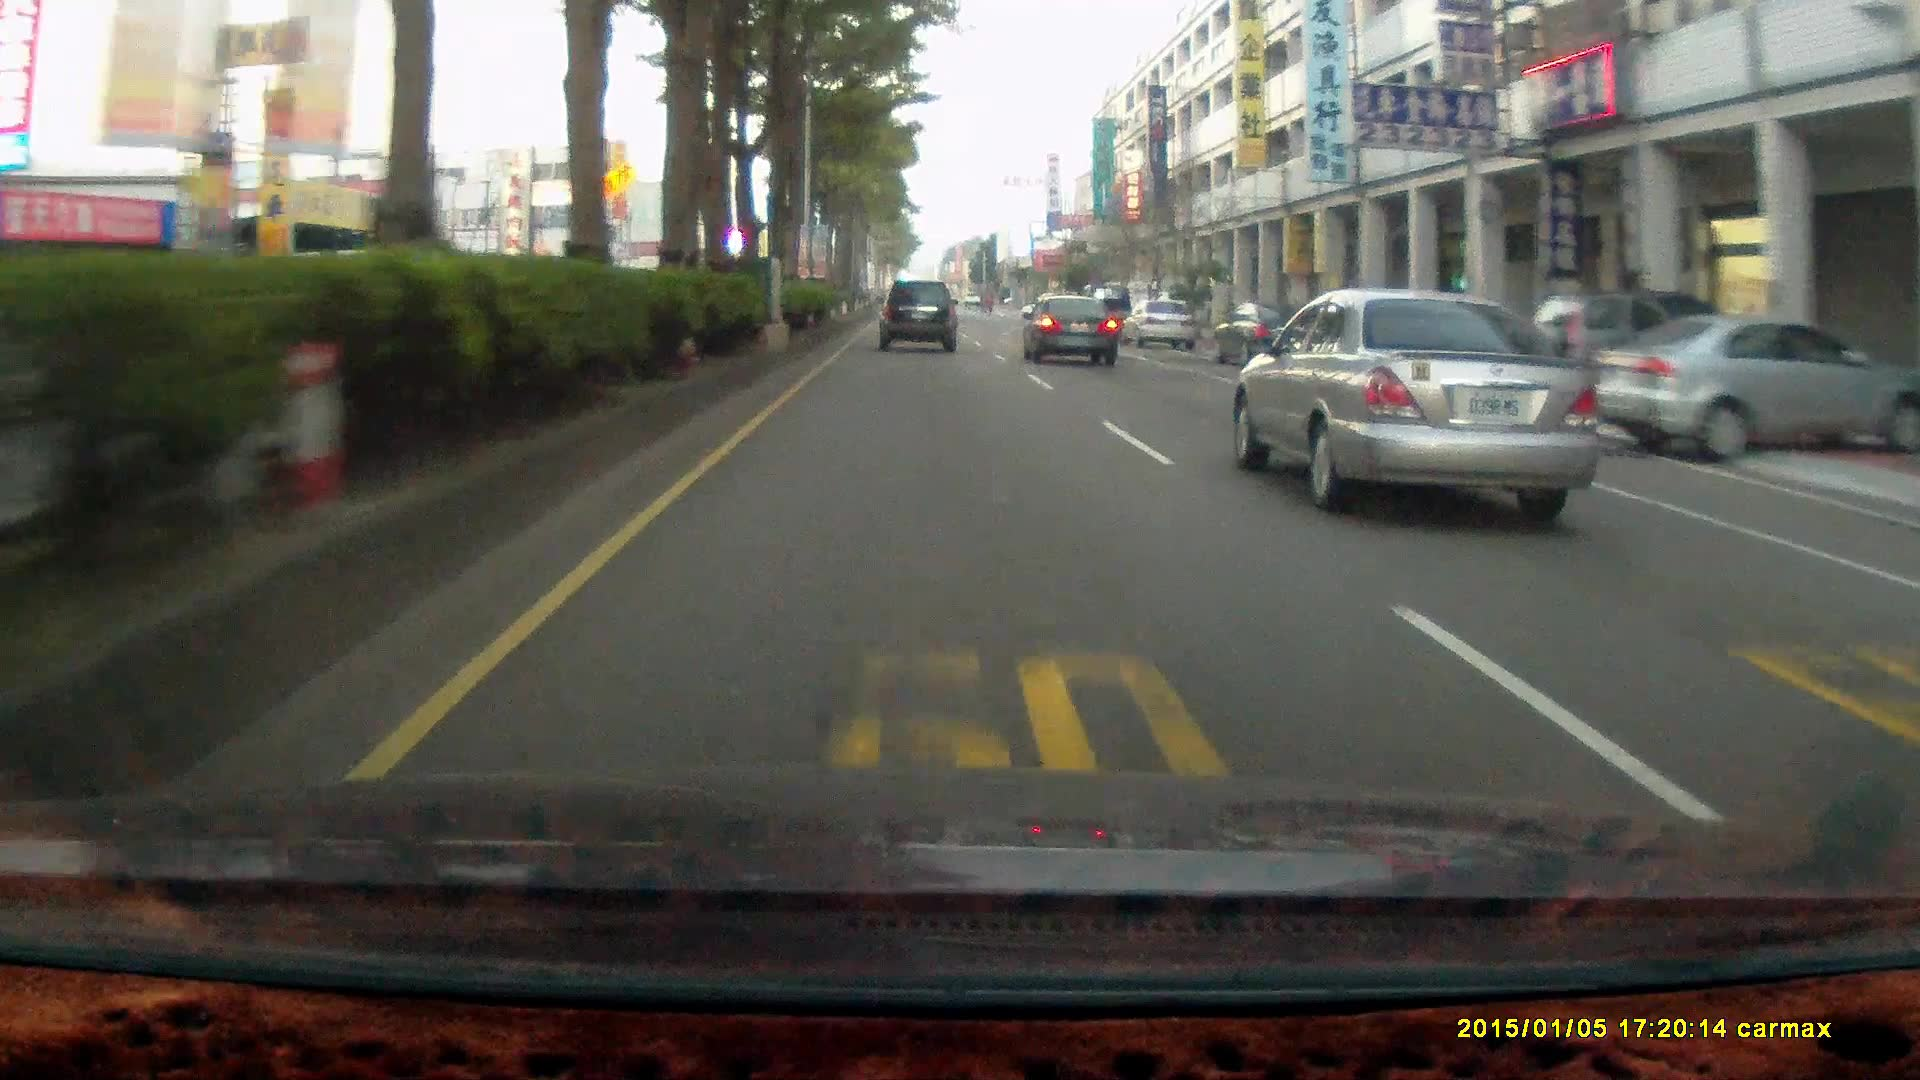vehicle: (1226, 286, 1613, 518), (1576, 316, 1920, 467), (1588, 315, 1916, 465), (1528, 290, 1749, 410), (1211, 297, 1336, 368), (1019, 291, 1116, 367), (1023, 295, 1124, 367), (877, 281, 960, 356), (876, 278, 957, 349), (1118, 295, 1197, 349), (1129, 299, 1201, 349)
